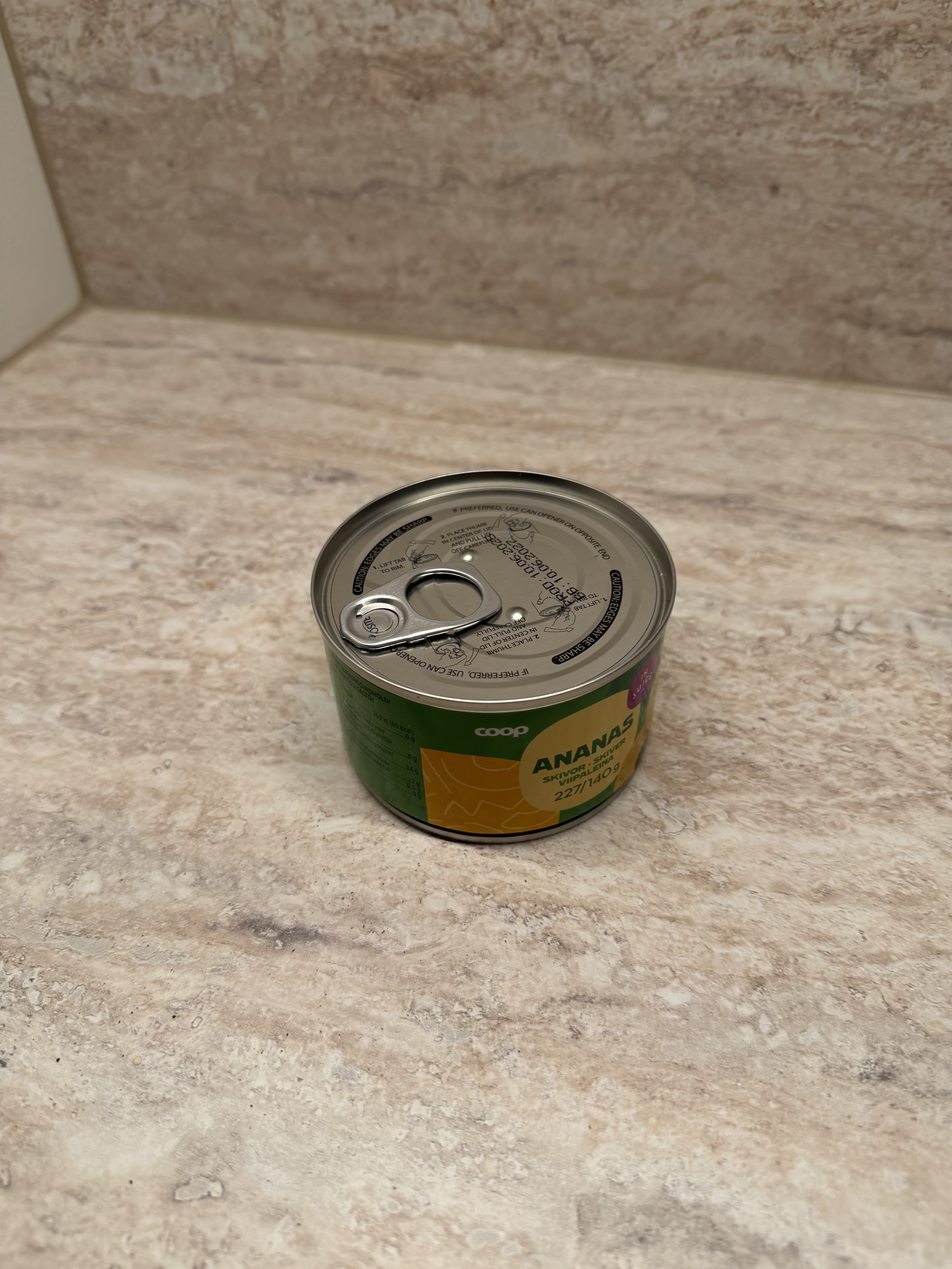Konservburk: (288, 461, 684, 847)
